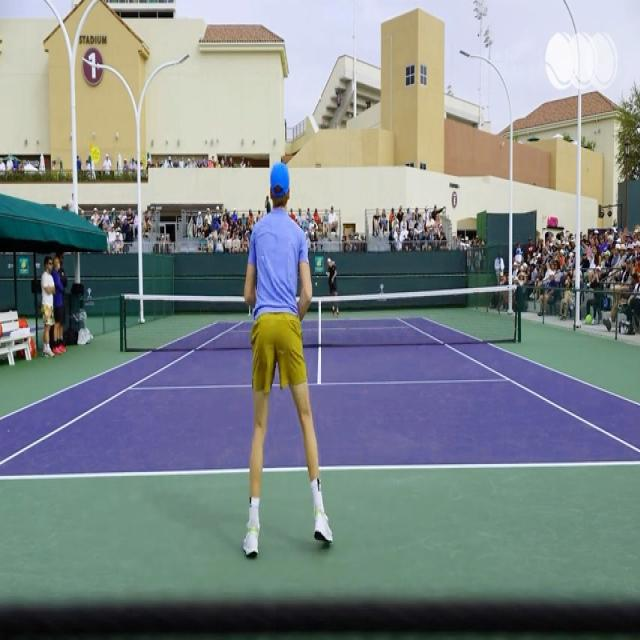ready-position: (235, 170, 346, 549)
